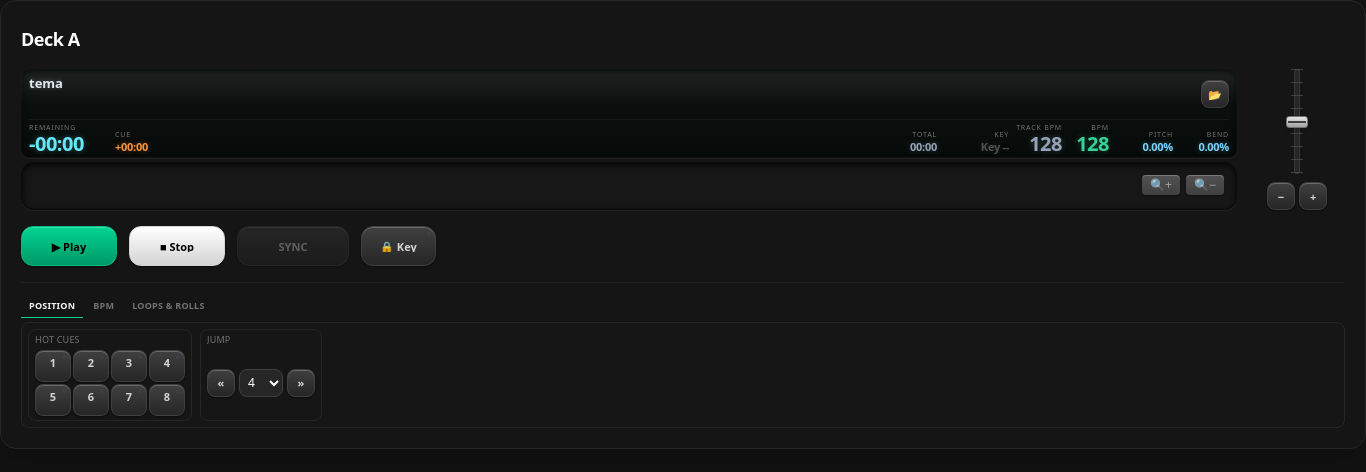
it: caja de estructura › « ‹ › » mueven la frase, con el salto grueso a media frase
The width and height of the screenshot is (1366, 472).
Click the tab "BPM" at [104, 307], box [85,295,122,318]
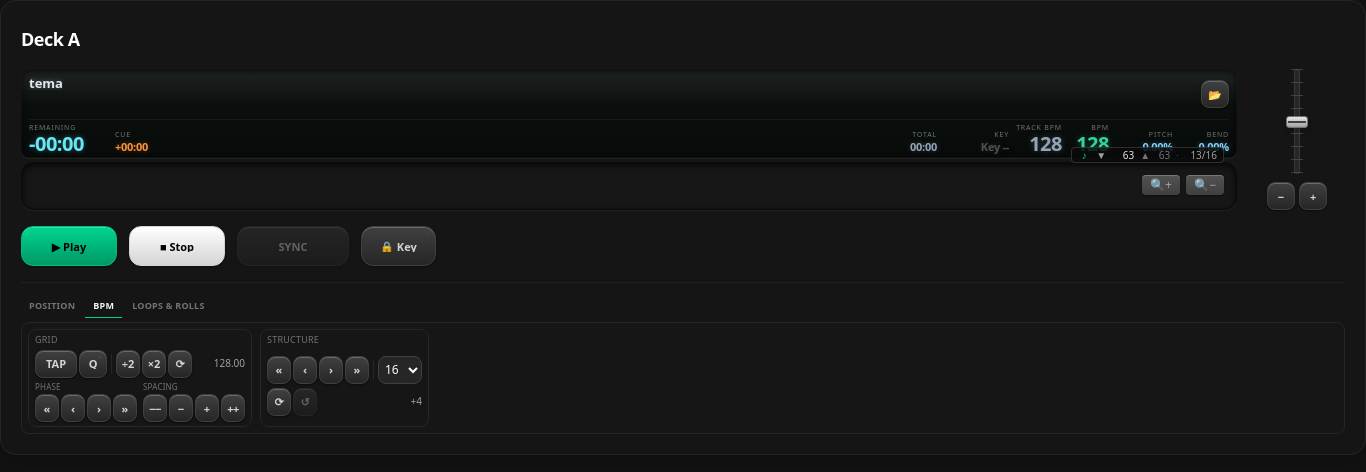
Expected: the text titled "Current phrase shift, in kicks. Amber when you set it by hand" reads "+4", [410,394,422,408]
Click the button titled "Shift the phrase 1 kick forward" below "Structure" at [331, 370], box [319,356,343,384]
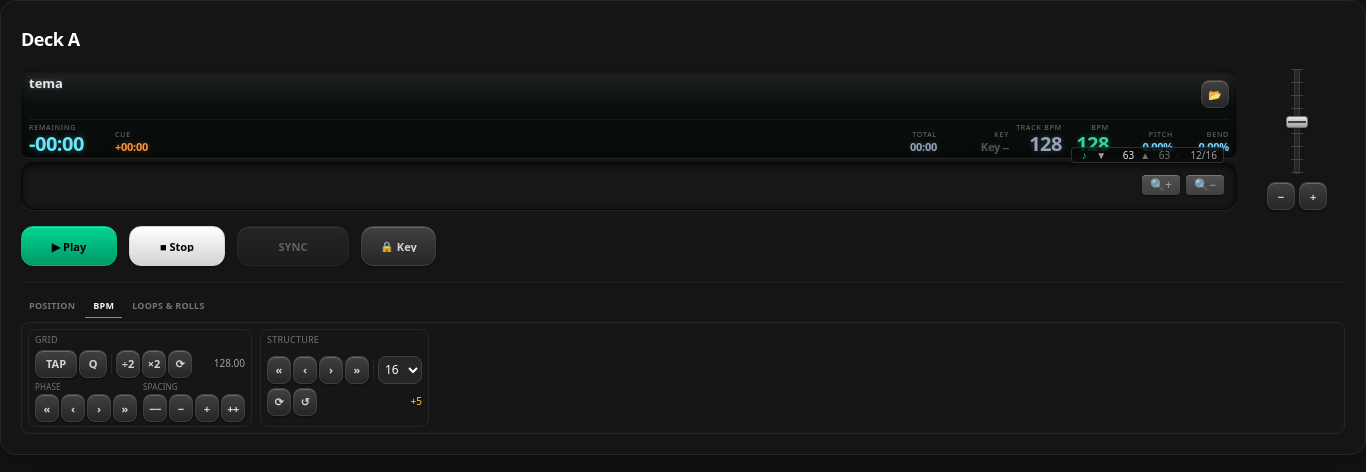
Expected: the text titled "Current phrase shift, in kicks. Amber when you set it by hand" reads "+5", [410,394,422,408]
Click the button titled "Shift the phrase 1 kick back" below "Structure" at [305, 370], box [293,356,317,384]
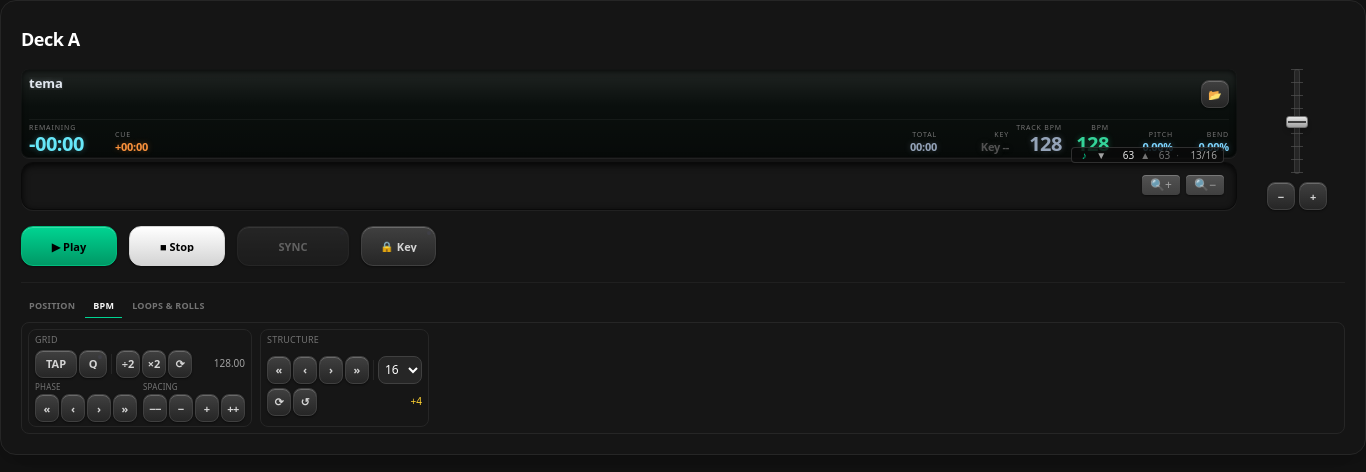
Expected: the text titled "Current phrase shift, in kicks. Amber when you set it by hand" reads "+4", [410,394,422,408]
Click the button "»" below "Structure" at [357, 370], box [345,356,369,384]
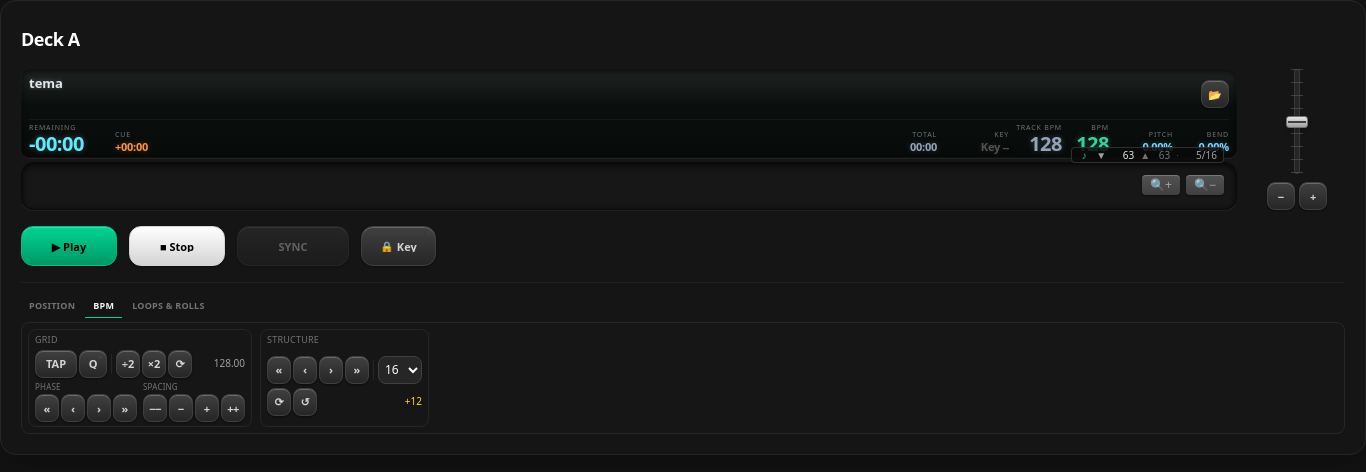
Expected: the text titled "Current phrase shift, in kicks. Amber when you set it by hand" reads "+12", [405,394,422,408]
Click the button "»" below "Structure" at [357, 370], box [345,356,369,384]
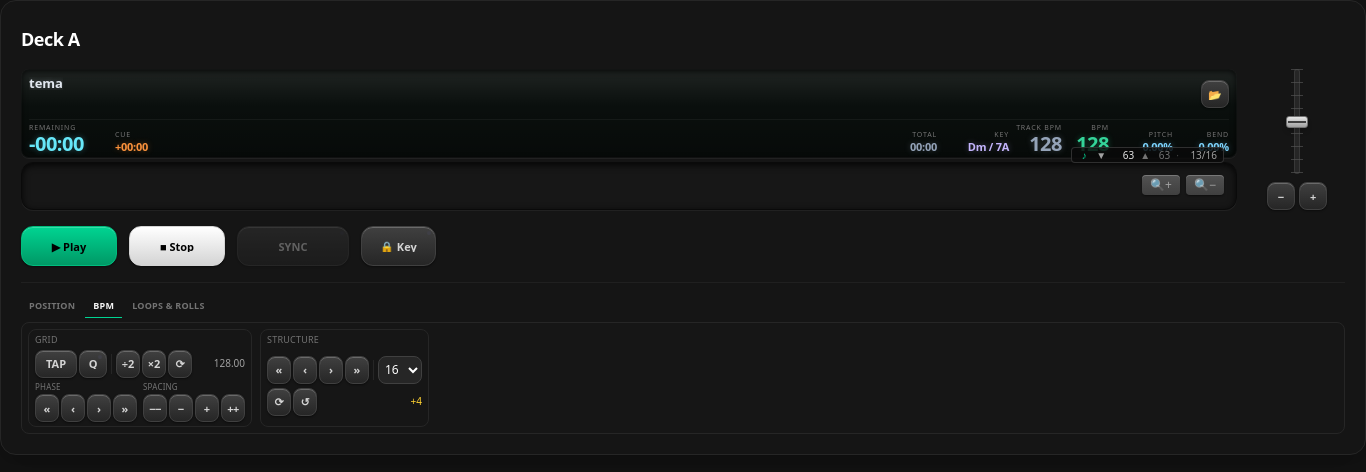
Expected: the text titled "Current phrase shift, in kicks. Amber when you set it by hand" reads "+4", [410,394,422,408]
